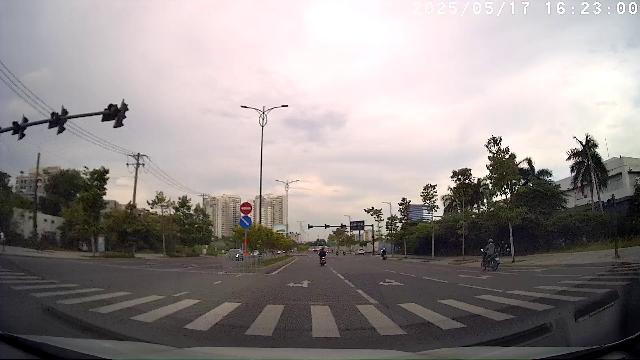102-cam-di-nguoc-chieu: (240, 201, 252, 214)
302a-huong-phai-di-vong-chuong-ngai-vat-1: (240, 216, 252, 229)
